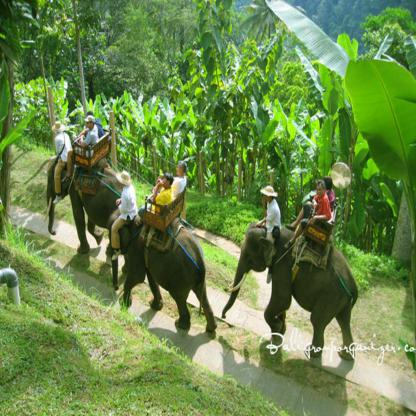face: (318, 184, 325, 198), (163, 176, 169, 187), (177, 164, 182, 175), (265, 193, 270, 203), (87, 121, 92, 128)
